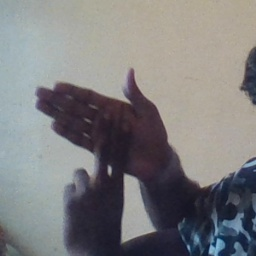N: (31, 66, 171, 222)
